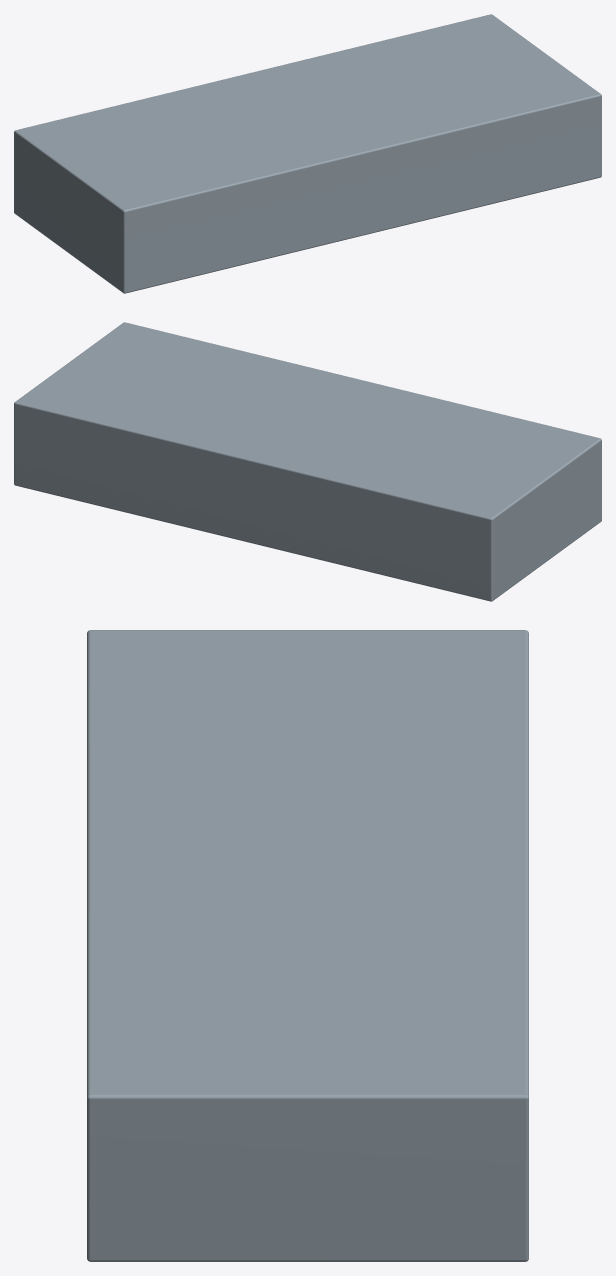
The model's file is SM_ForkSegment.fbx.
3 renders of one model, top to bottom at view 1: azimuth 30°, elevation 25°; view 2: azimuth 150°, elevation 25°; view 3: azimuth 270°, elevation 25°, orthographic. The views are drawn at different scales.
Visible parts, largest first — view 1: SM_ForkSegment; view 2: SM_ForkSegment; view 3: SM_ForkSegment.
Part boxes in pixels (x1,y1,x2,y2): SM_ForkSegment: [14, 14, 601, 293]; SM_ForkSegment: [14, 322, 601, 601]; SM_ForkSegment: [87, 630, 528, 1261].
Bounding box in the file's own units: 12 × 30 × 5.
